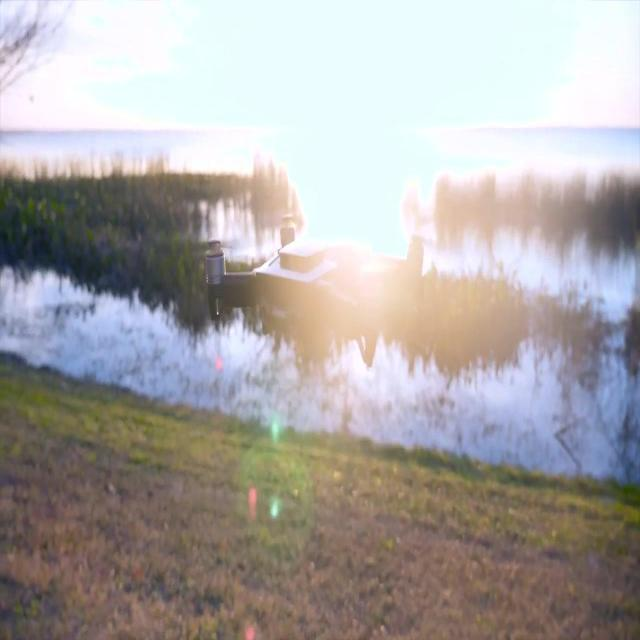drone: (201, 213, 433, 371)
